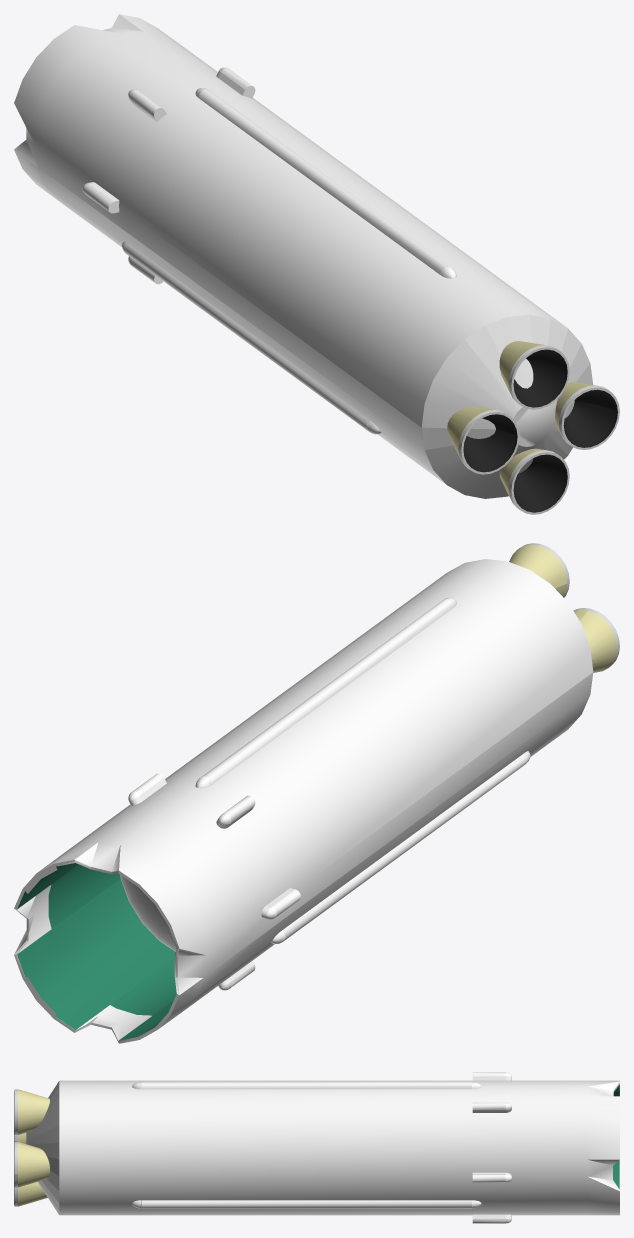
The model's file is protkstg2_uw.obj.
3 views of the same model, one above another, from view 1: azimuth 30°, elevation 25°; view 2: azimuth 150°, elevation 25°; view 3: azimuth 270°, elevation 25° (orthographic). The views are drawn at different scales.
Parts seen in each view (by area): view 1: group10, group11, group18, group19, group5, group6, group4, group7, group3, group0, group13, group14 (+2 smaller); view 2: group10, group8, group9, group18, group19, group3, group0, group12; view 3: group10, group17, group18, group11, group1, group0, group2, group22, group20, group24, group23.
Part boxes in pixels (box(x1,y1,x2,y2)): group10: box(14, 14, 566, 484); group11: box(421, 314, 593, 498); group18: box(195, 88, 456, 278); group19: box(122, 241, 381, 434); group5: box(563, 389, 617, 447); group6: box(513, 454, 567, 512); group4: box(513, 349, 567, 407); group7: box(463, 414, 517, 472); group3: box(447, 407, 494, 465); group0: box(499, 341, 556, 402); group13: box(508, 345, 569, 409); group14: box(559, 385, 619, 449); group10: box(14, 559, 593, 1043); group8: box(17, 863, 175, 1040); group9: box(48, 864, 176, 1015); group18: box(195, 597, 456, 788); group19: box(271, 751, 530, 944); group3: box(574, 609, 617, 672); group0: box(509, 545, 567, 597); group12: box(120, 875, 176, 951); group10: box(59, 1080, 619, 1215); group17: box(132, 1200, 481, 1208); group18: box(132, 1082, 481, 1089); group11: box(26, 1081, 59, 1214); group1: box(18, 1142, 49, 1187); group0: box(18, 1089, 49, 1134); group2: box(18, 1182, 47, 1206); group22: box(472, 1102, 511, 1112); group20: box(472, 1172, 511, 1182); group24: box(472, 1214, 511, 1223); group23: box(472, 1072, 511, 1080).
Bounding box in the file's own units: 4.6 × 4.24 × 18.36.
